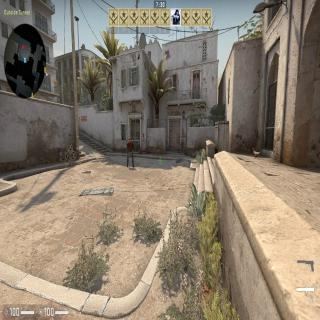T-Body: (126, 137, 135, 167)
T-Head: (128, 138, 130, 141)
